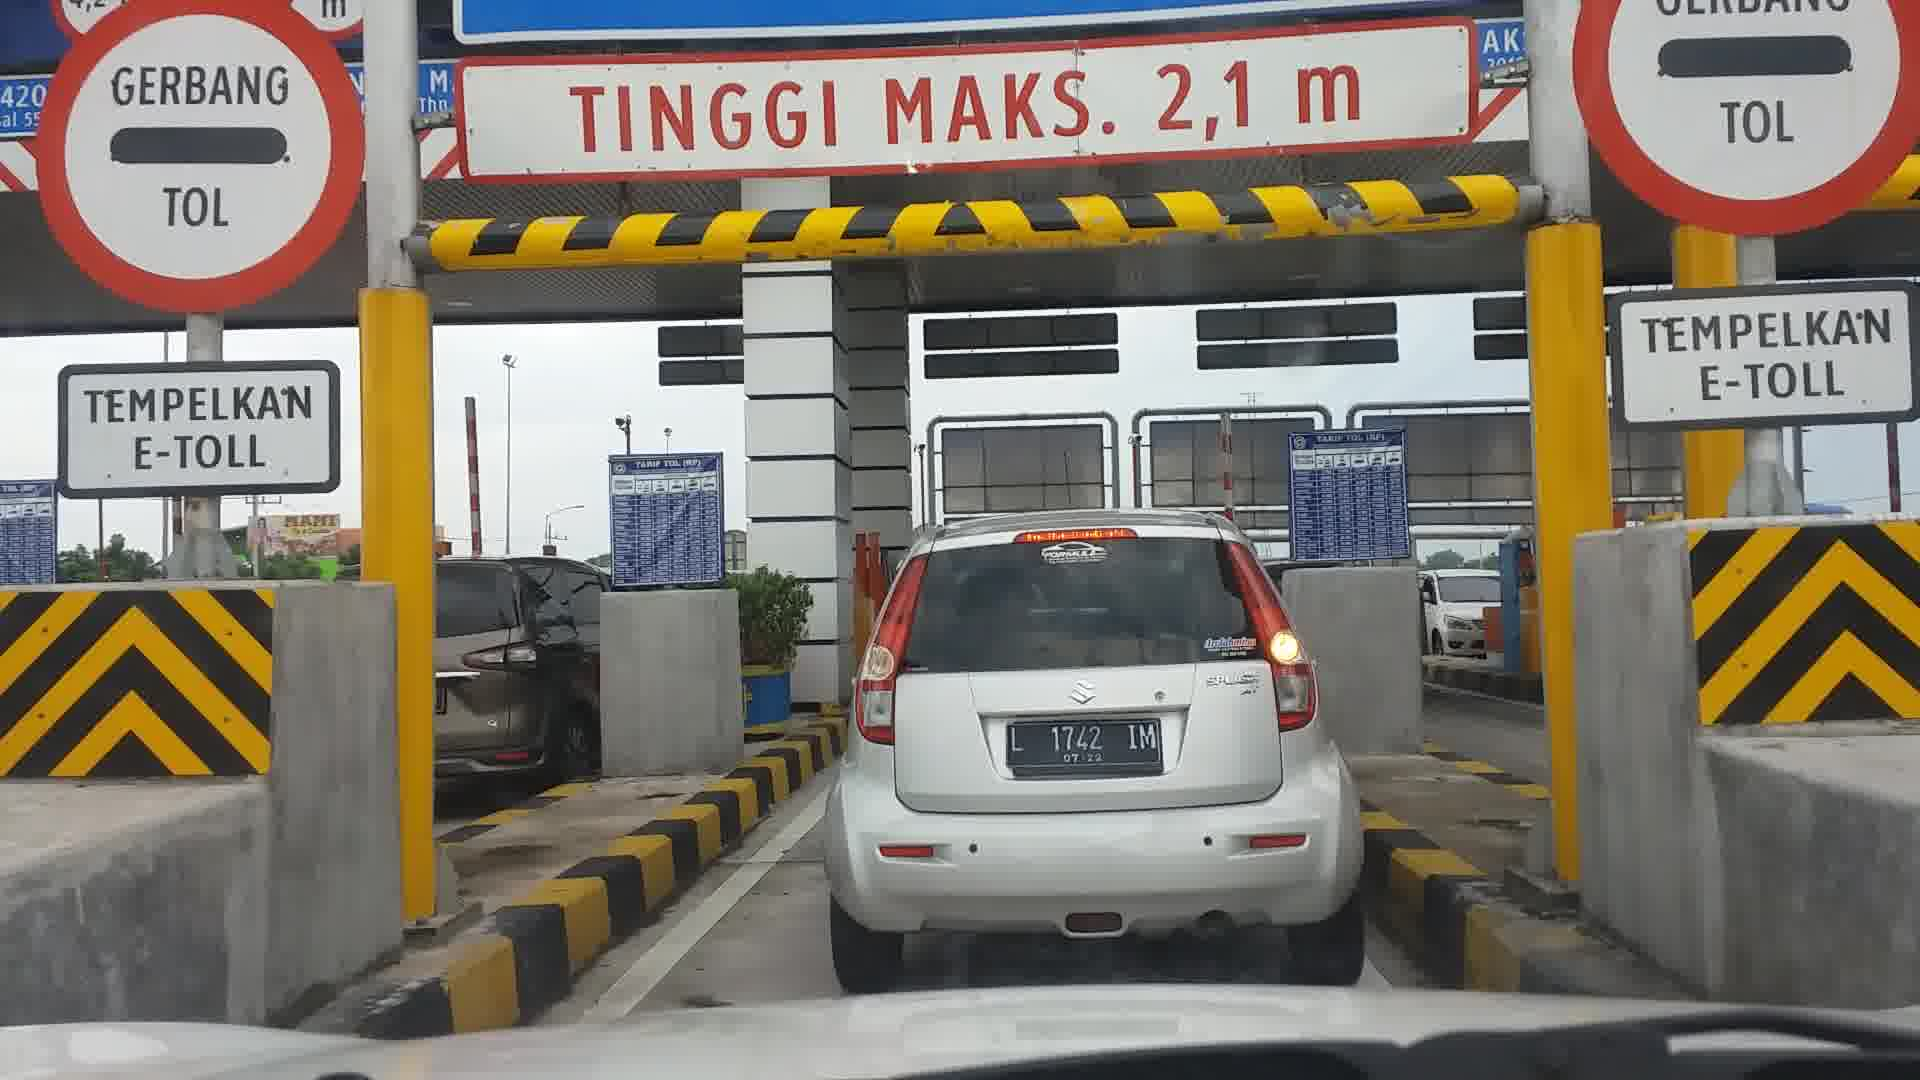plate_positive: (1006, 719, 1163, 775)
